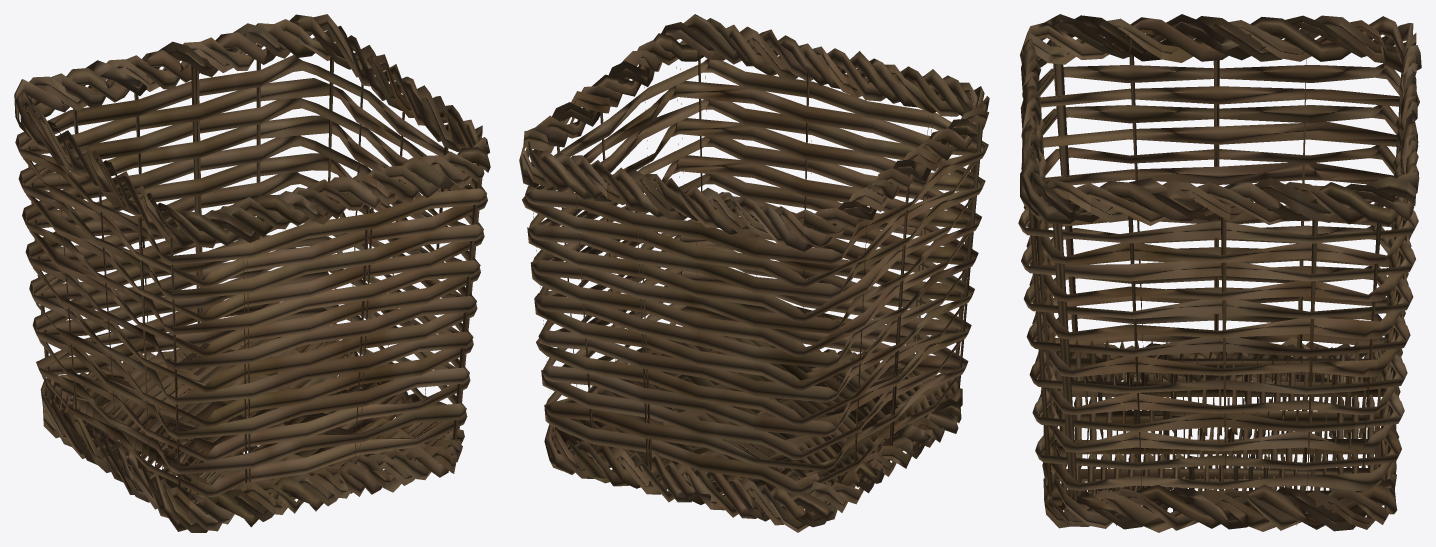
Rendered from ph-wicker-basket-01.glb.
3 renders of one model, left to right at view 1: azimuth 30°, elevation 25°; view 2: azimuth 150°, elevation 25°; view 3: azimuth 270°, elevation 25°, orthographic. The views are drawn at different scales.
Visible parts, largest first — view 1: wicker_basket_01; view 2: wicker_basket_01; view 3: wicker_basket_01.
Part boxes in pixels (bbox=[...]): wicker_basket_01: bbox=[14, 14, 490, 532]; wicker_basket_01: bbox=[519, 14, 989, 532]; wicker_basket_01: bbox=[1018, 14, 1421, 532].
Bounding box in the file's own units: 0.9994 × 1 × 0.9963.
1 material, 1 textured.
